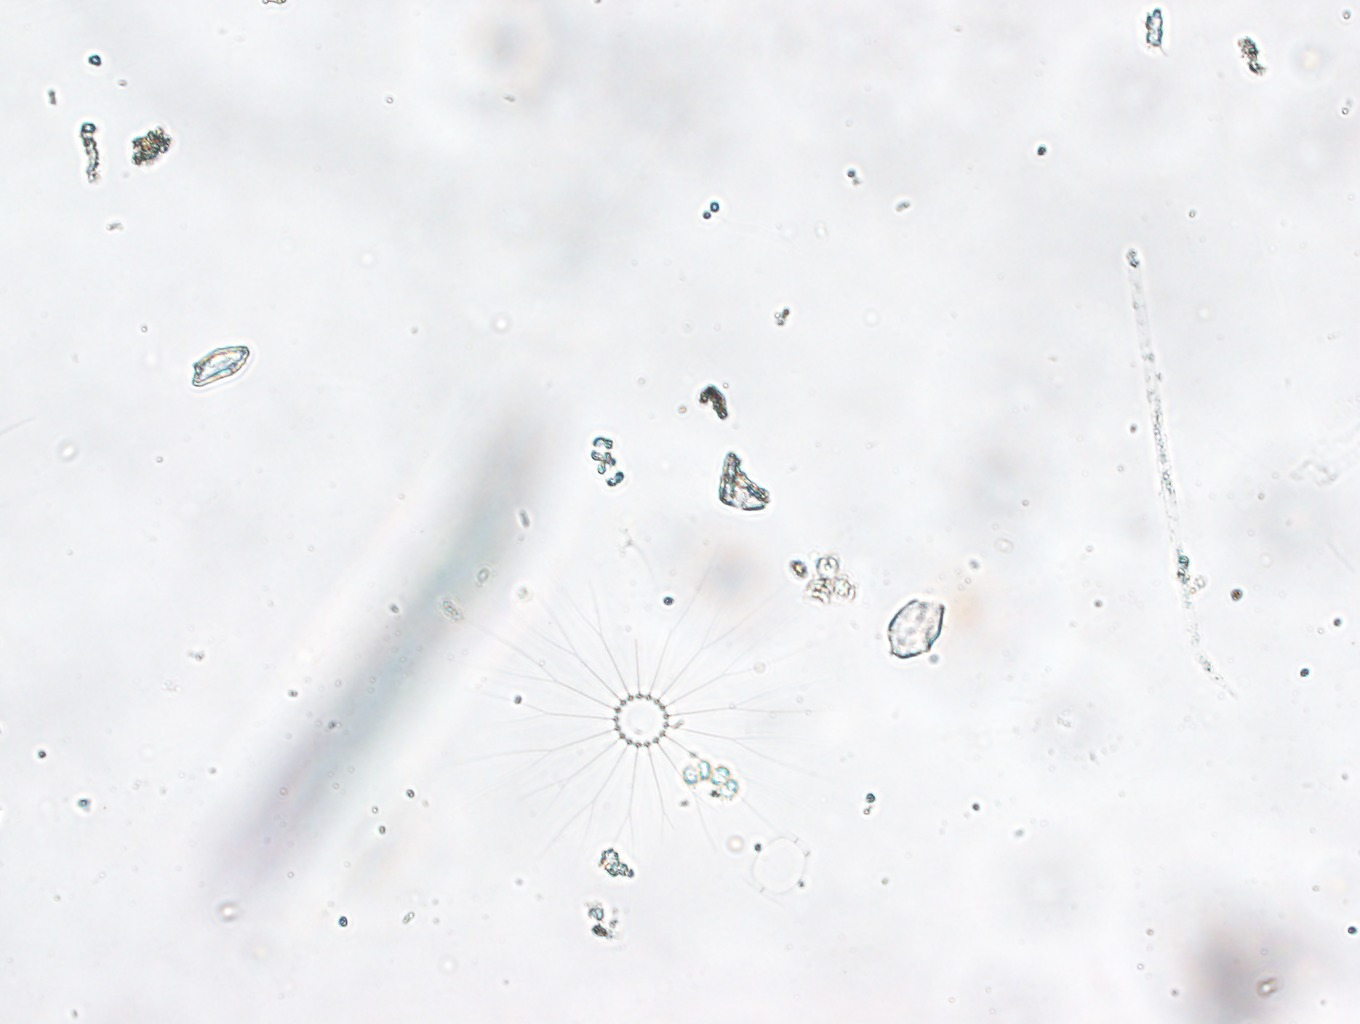bacteriastrum: (487, 563, 805, 867)
